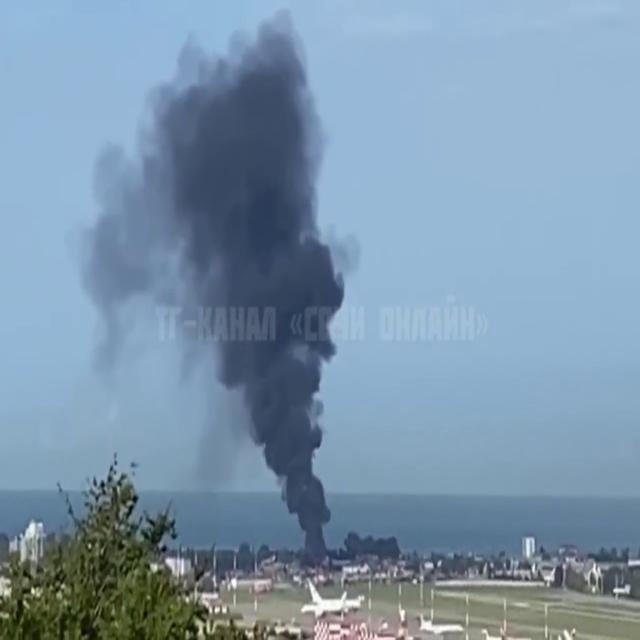Smoke: (129, 13, 346, 558)
